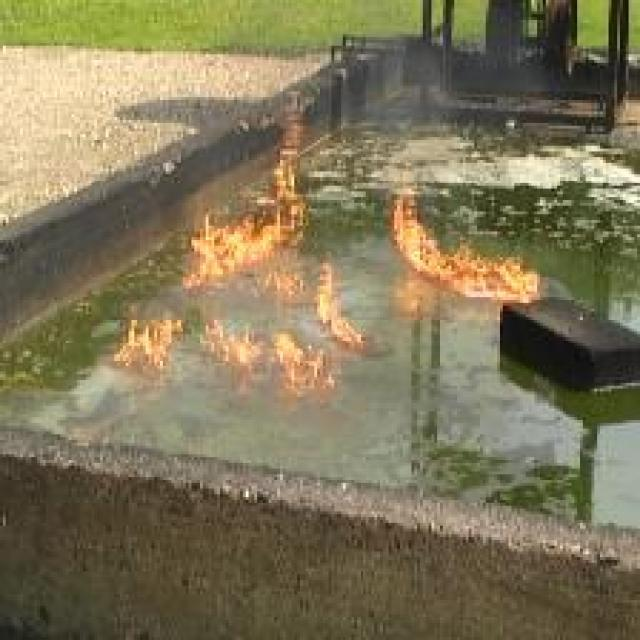Fire: (187, 124, 304, 287), (391, 186, 540, 306), (201, 323, 333, 391), (318, 256, 384, 353), (112, 312, 184, 374)
